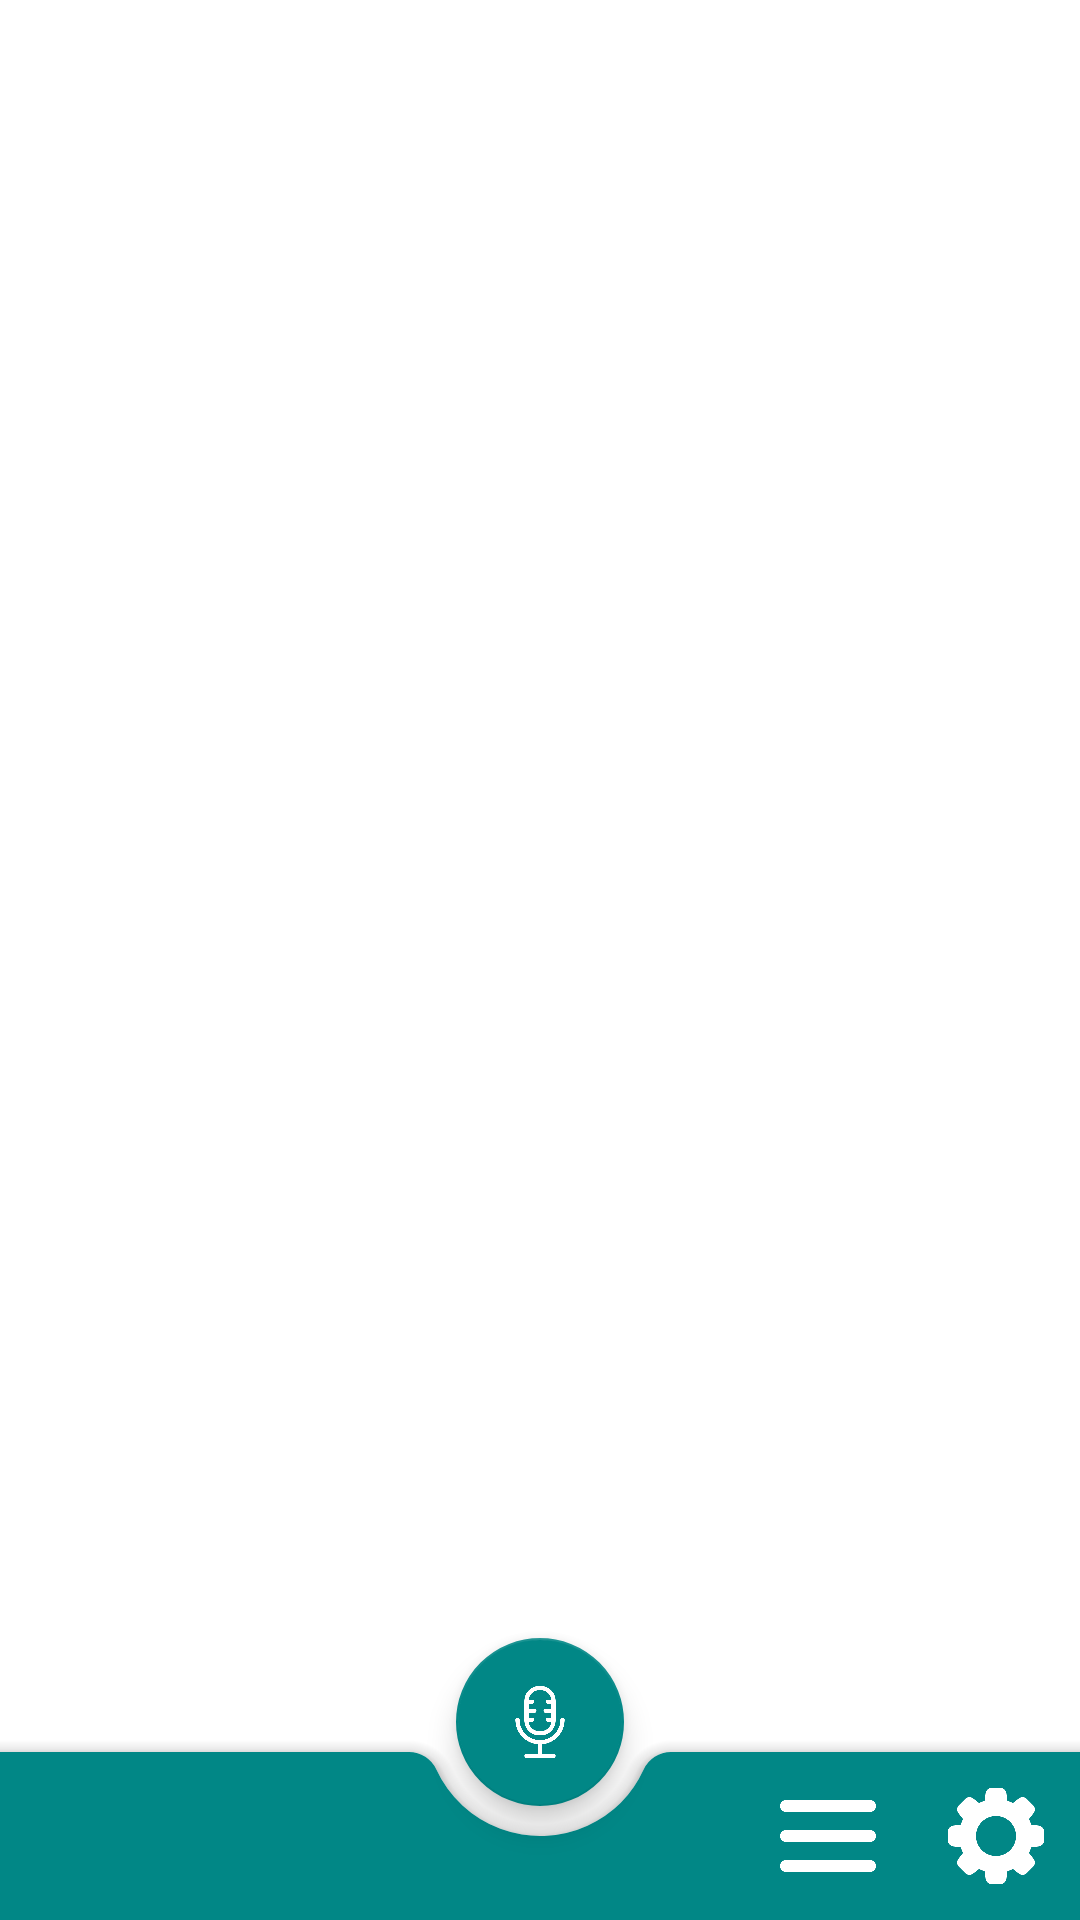

Point at icon controls on the screen. Image size 1080 x 1920, points as point (x, y).
Mic Input: point (540, 1752)
